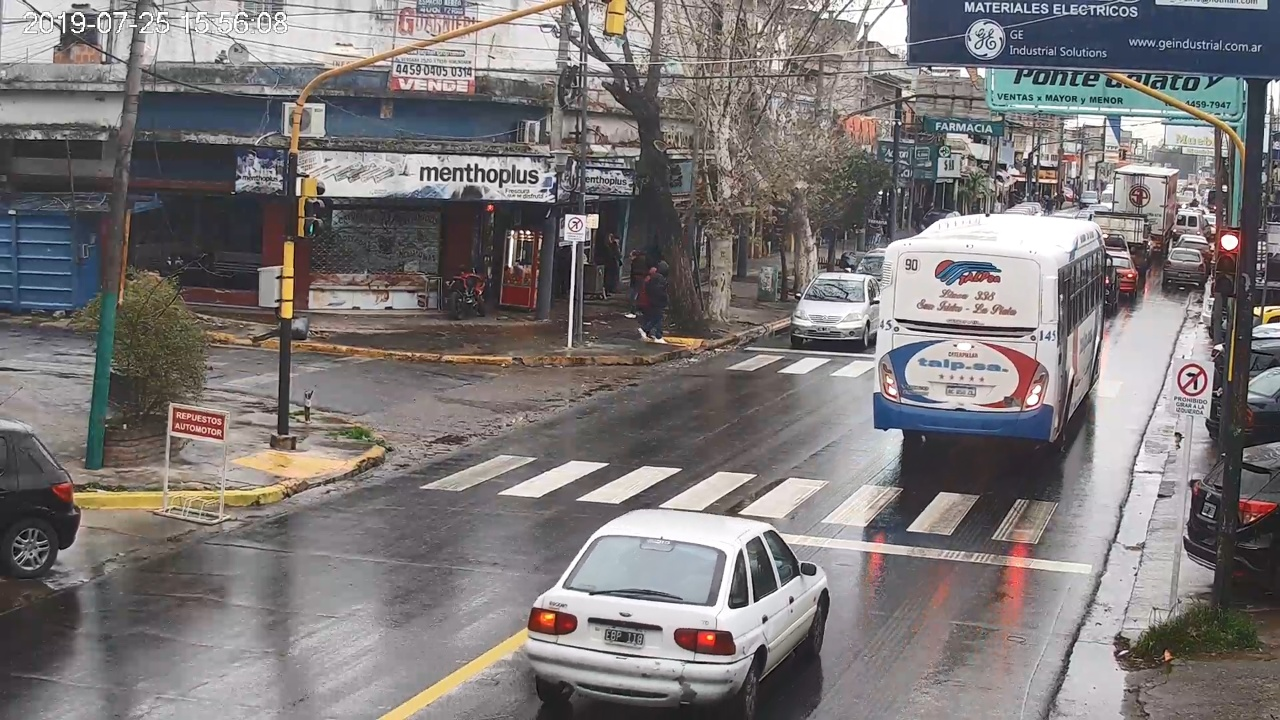bus: (875, 214, 1115, 454)
car: (526, 508, 830, 720)
traffic light: (1218, 228, 1239, 294)
